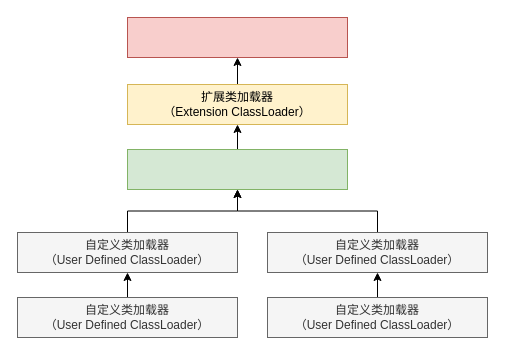
This 505x355 diagram has some shape labels left out. Here are the shapes that lost their labels. From the top down, the centre of each, then its label:
At (237,37): "引导类加载器 （BootStrap ClassLoader）".
At (237,169): "系统类加载器 （System ClassLoader）".
